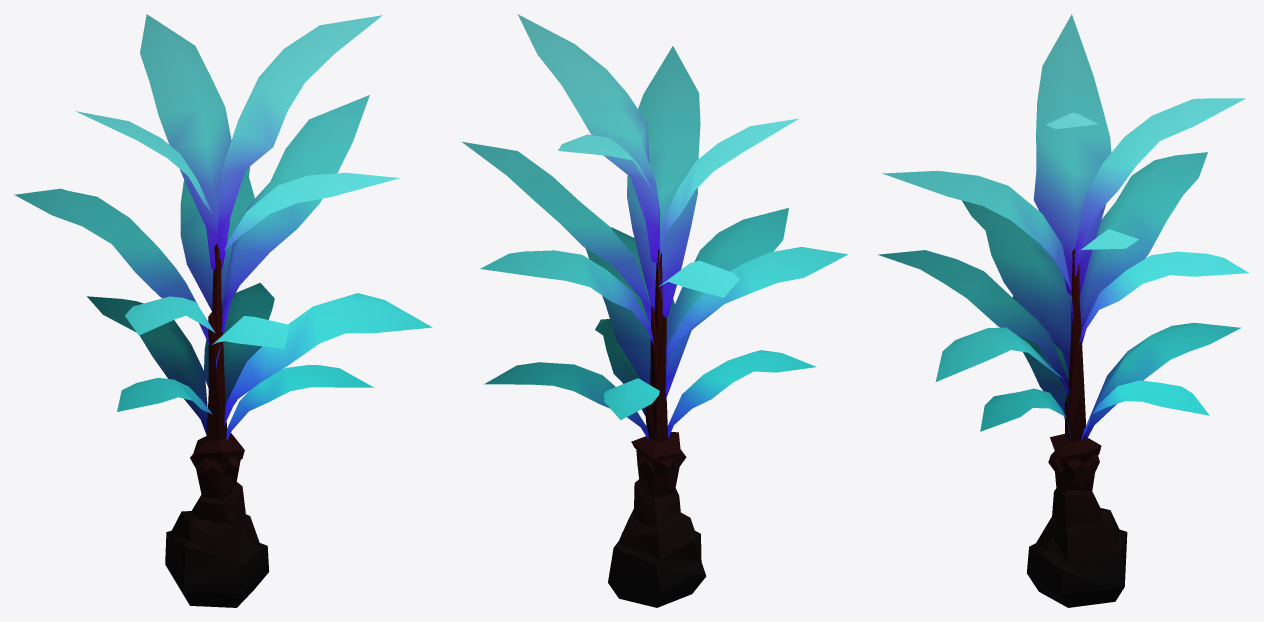
The model's file is SM_Env_Bush_Palm_01.gltf.
3 views of the same model, side by side, from view 1: azimuth 30°, elevation 25°; view 2: azimuth 150°, elevation 25°; view 3: azimuth 270°, elevation 25° (orthographic). The views are drawn at different scales.
Parts seen in each view (by area): view 1: SM_Env_Bush_Palm_01_LOD0; view 2: SM_Env_Bush_Palm_01_LOD0; view 3: SM_Env_Bush_Palm_01_LOD0.
Part boxes in pixels (x1=…): SM_Env_Bush_Palm_01_LOD0: x1=14, y1=14, x2=432, y2=607; SM_Env_Bush_Palm_01_LOD0: x1=462, y1=14, x2=848, y2=607; SM_Env_Bush_Palm_01_LOD0: x1=878, y1=14, x2=1248, y2=607.
Size of the model in its own units: 2.41 by 3.98 by 2.47.
